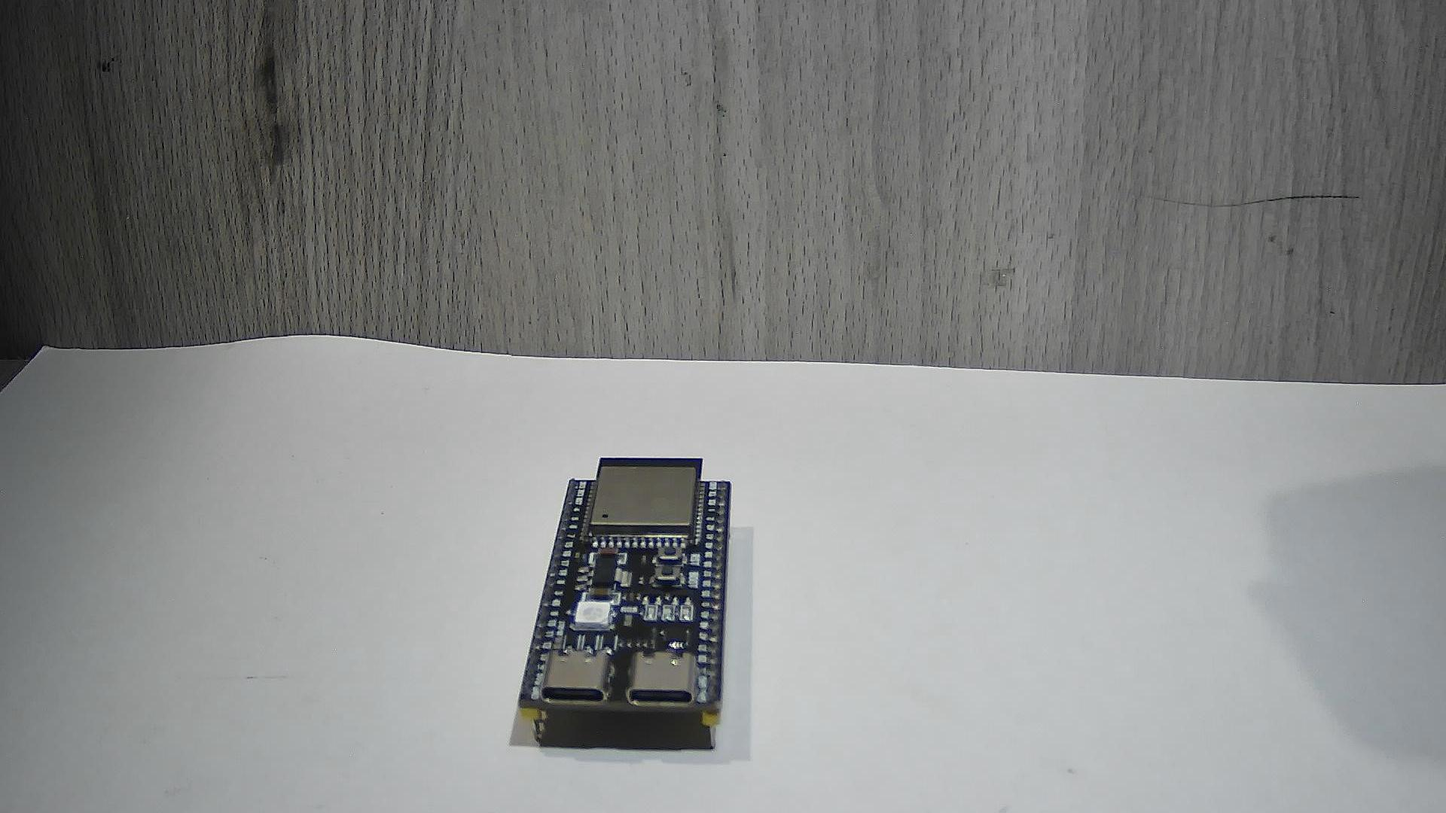ESP32: (492, 423, 751, 769)
